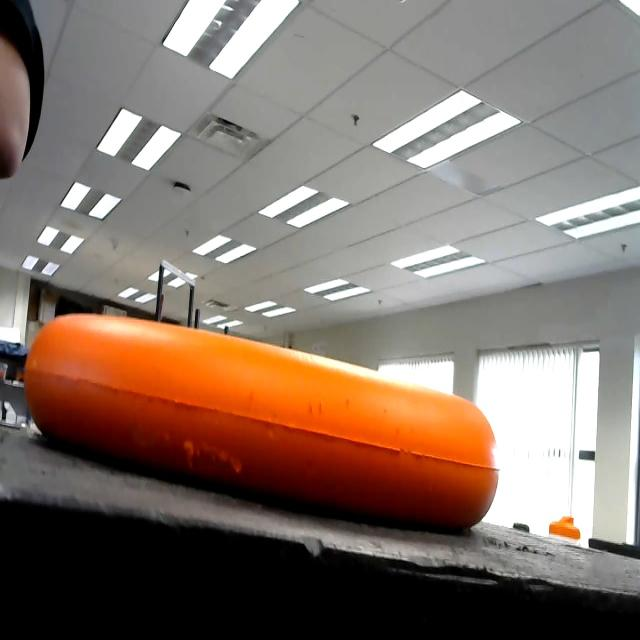note: (19, 296, 512, 559)
